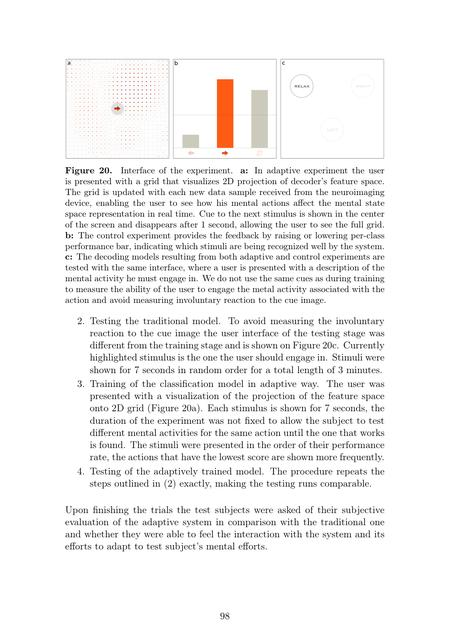box: (64, 55, 386, 162)
